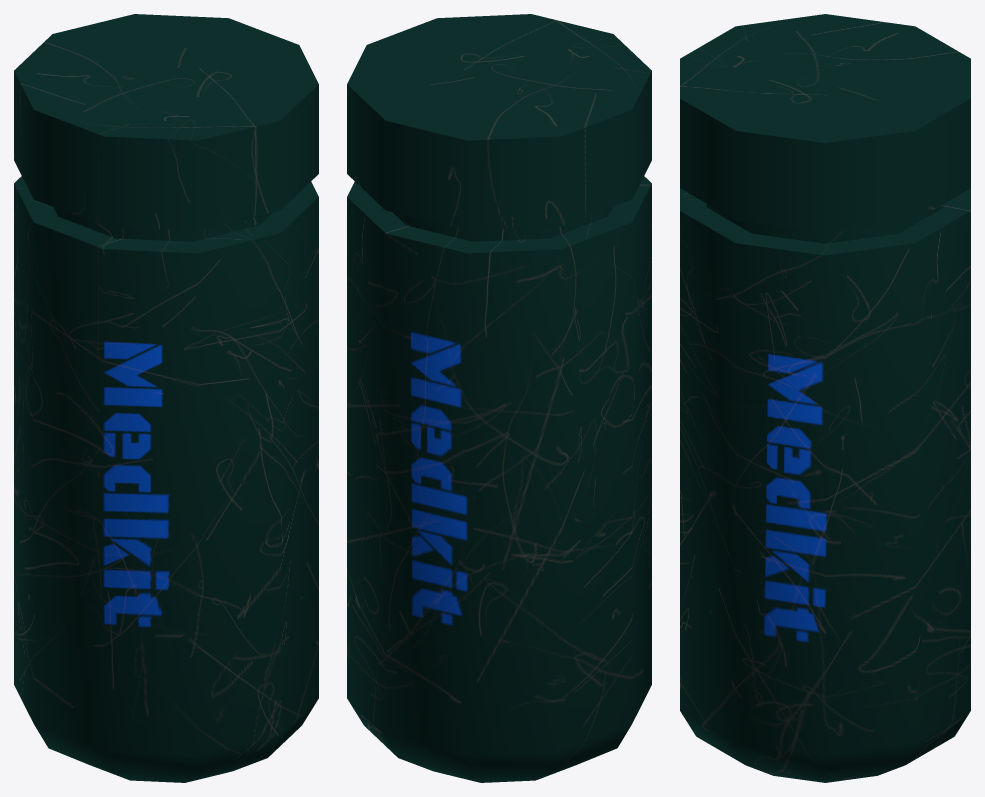
The model's file is medkit.fbx.
3 views of the same model, side by side, from view 1: azimuth 30°, elevation 25°; view 2: azimuth 150°, elevation 25°; view 3: azimuth 270°, elevation 25° (orthographic).
Visible parts, largest first — view 1: medkit; view 2: medkit; view 3: medkit.
Boxes of the visible parts, x1,y1,x2,y2 form: medkit: (14,14,318,782); medkit: (347,14,651,782); medkit: (680,14,970,782).
Size of the model in its own units: 2.54 by 6.28 by 2.41.
Materials: 1 (1 with a texture image).
